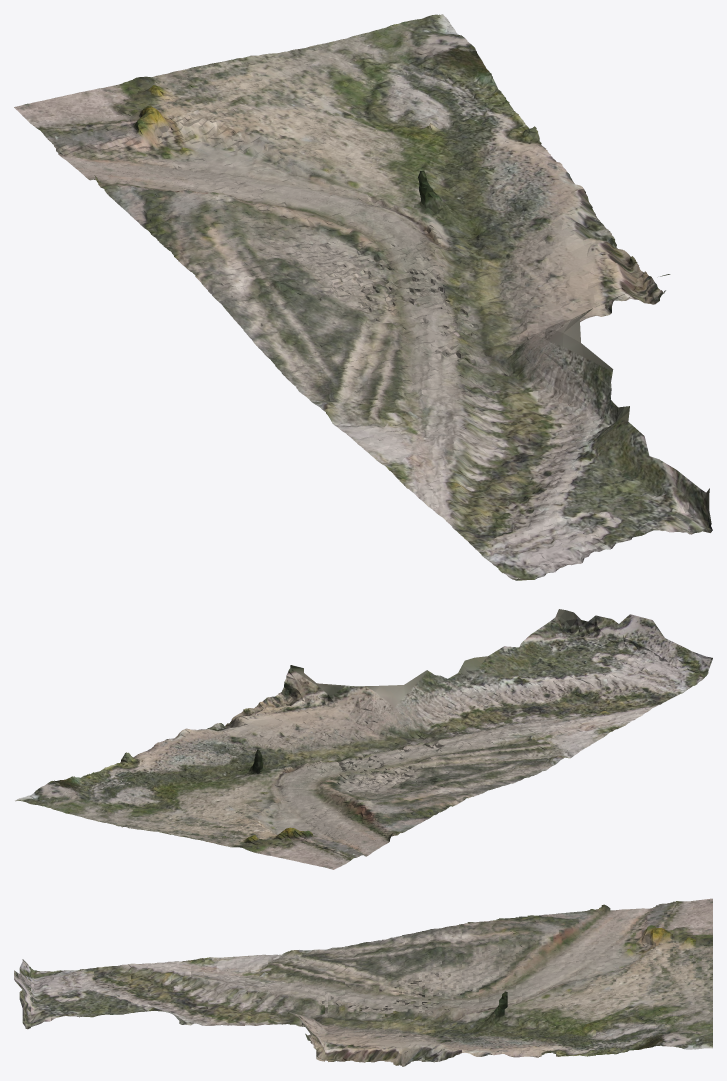
The model's file is MODELO13.GLB.
The picture shows the model from 3 angles, top to bottom: view 1: azimuth 30°, elevation 25°; view 2: azimuth 150°, elevation 25°; view 3: azimuth 270°, elevation 25°; orthographic projection. The views are drawn at different scales.
Size of the model in its own units: 58.88 by 14.78 by 122.
Materials: 1 (1 with a texture image).
